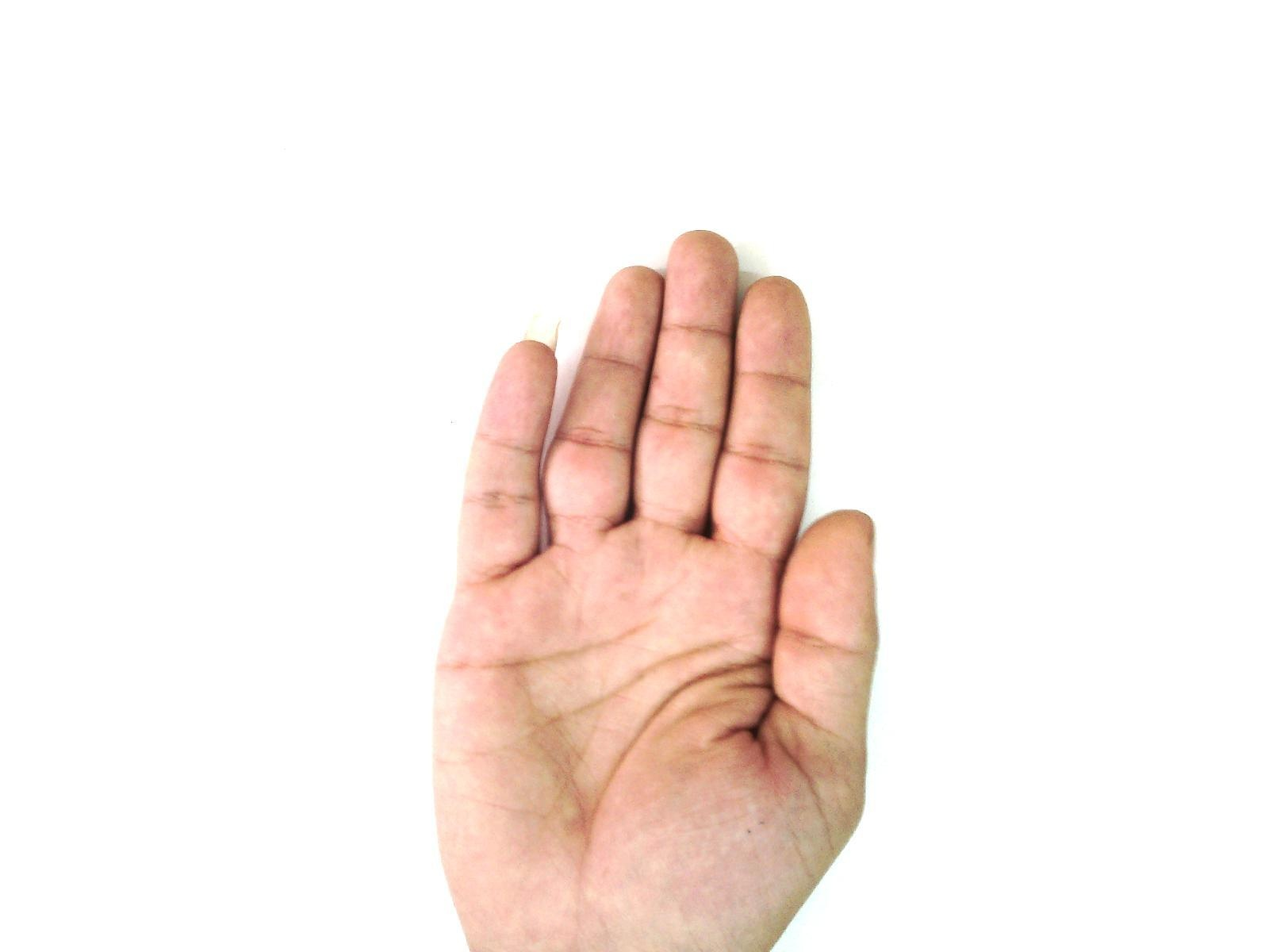open_palm: (428, 229, 882, 951)
